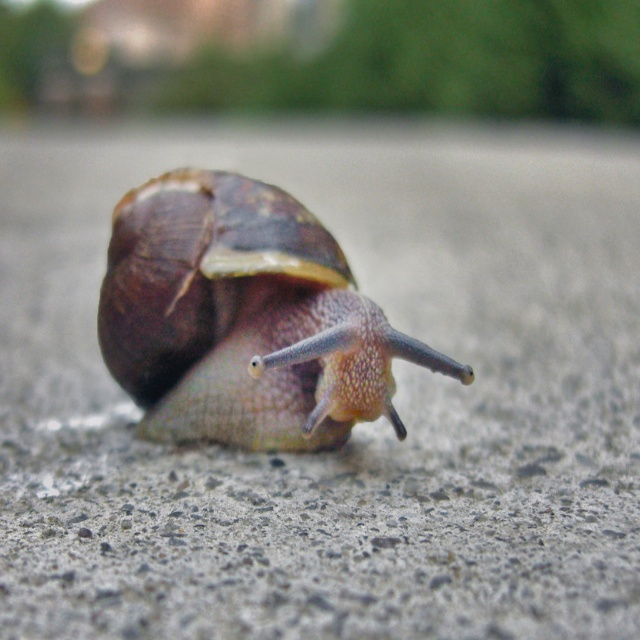Snail: (92, 161, 476, 459)
